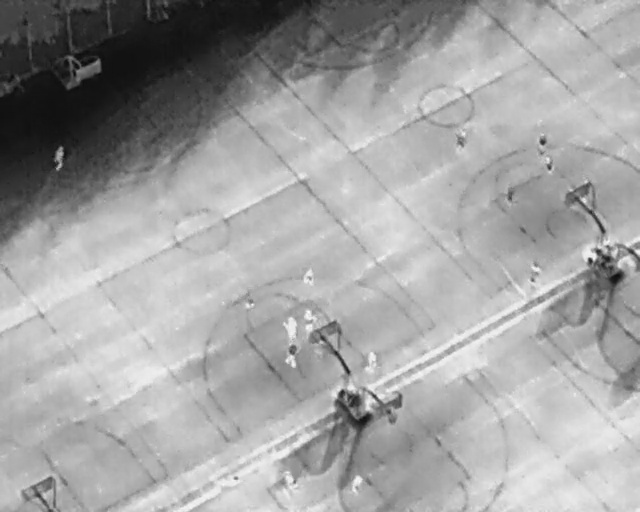Person: (524, 258, 545, 289), (48, 142, 68, 173), (277, 465, 299, 491), (362, 348, 380, 377), (301, 308, 318, 337), (282, 342, 300, 369), (281, 316, 298, 344), (348, 471, 366, 496), (451, 129, 469, 153), (503, 181, 517, 207), (300, 266, 317, 287), (537, 132, 549, 155), (243, 296, 257, 311), (544, 154, 554, 173)
